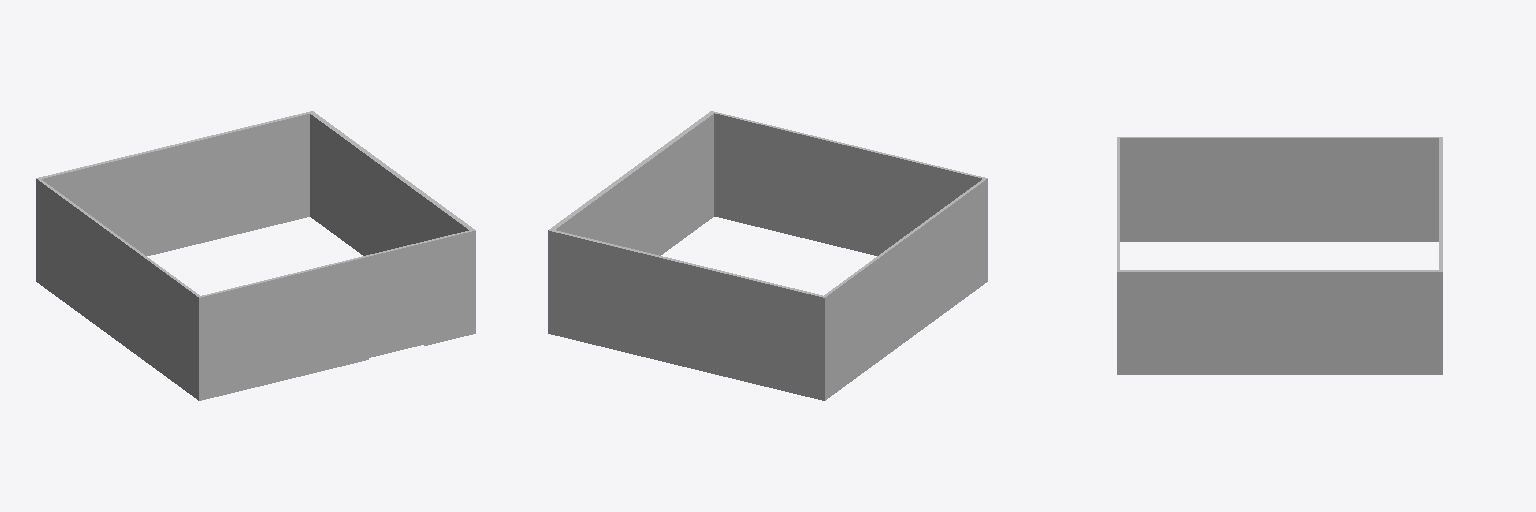
The model's file is wall2.obj.
3 renders of one model, left to right at view 1: azimuth 30°, elevation 25°; view 2: azimuth 150°, elevation 25°; view 3: azimuth 270°, elevation 25°, orthographic.
Parts seen in each view (by area): view 1: group4_pasted__group1_pasted__pasted__group_pasted__pasted__past; view 2: group4_pasted__group1_pasted__pasted__group_pasted__pasted__past; view 3: group4_pasted__group1_pasted__pasted__group_pasted__pasted__past.
Boxes of the visible parts, box(x1,y1,x2,y2) form: group4_pasted__group1_pasted__pasted__group_pasted__pasted__past: box(36, 111, 475, 400); group4_pasted__group1_pasted__pasted__group_pasted__pasted__past: box(548, 111, 987, 400); group4_pasted__group1_pasted__pasted__group_pasted__pasted__past: box(1117, 137, 1442, 374).
Size of the model in its own units: 159 by 56.86 by 163.